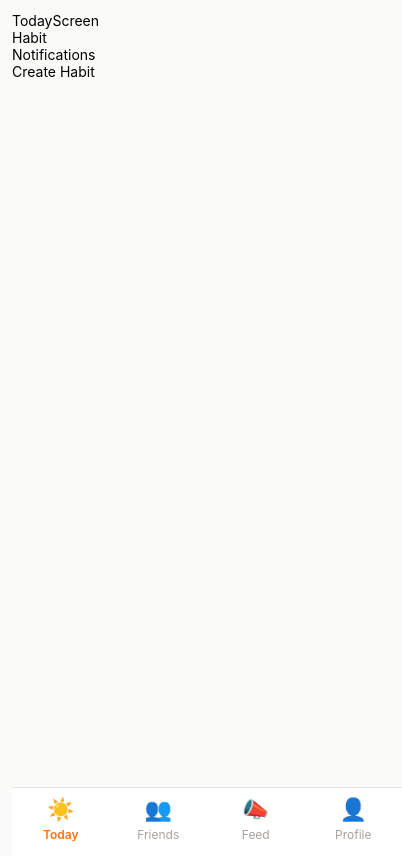
RootNavigator › switches to Feed tab
The image size is (402, 856).
Click the tab with test id "tab-feed". click: (256, 819)
box: [242,796,270,842]
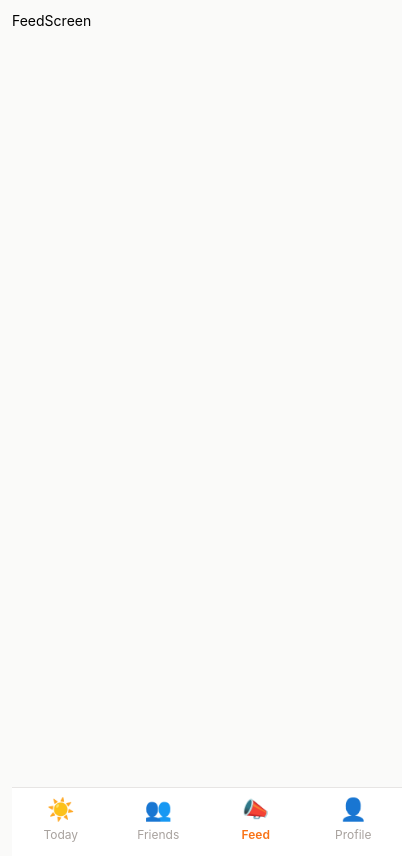
Expected: the element with test id "feed-screen" is shown, [12,12,91,29]
